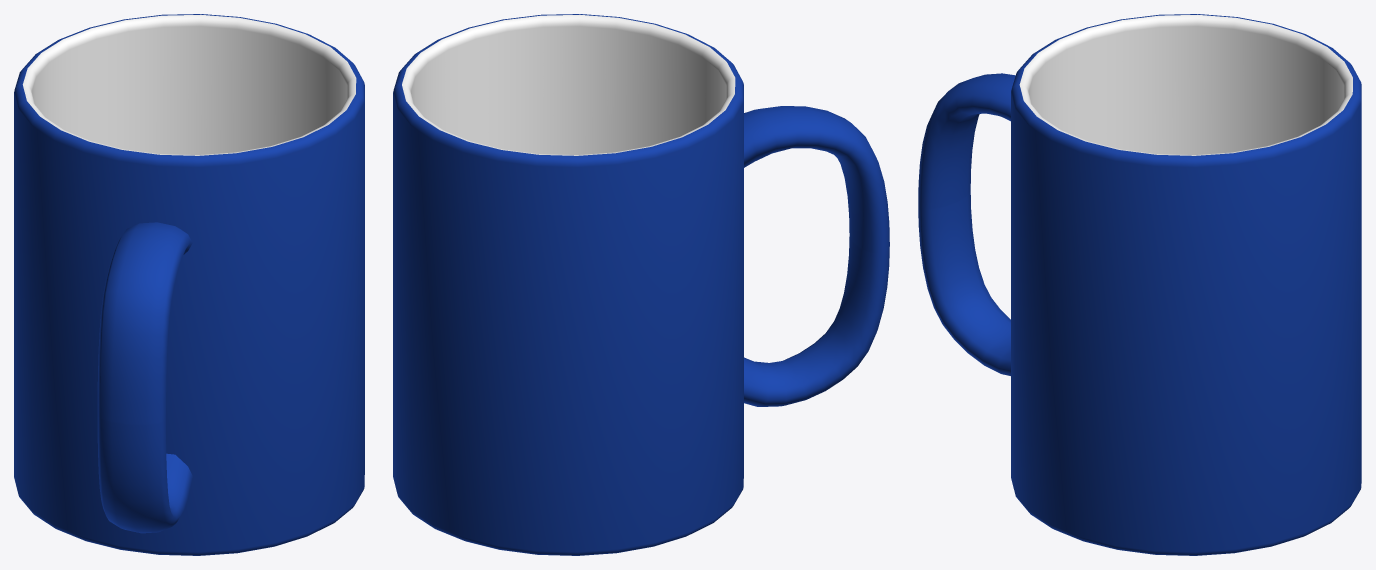
File: Coffee Mug.FBX
3 renders of one model, left to right at view 1: azimuth 30°, elevation 25°; view 2: azimuth 150°, elevation 25°; view 3: azimuth 270°, elevation 25°, orthographic.
Parts seen in each view (by area): view 1: cup2_obj_0; view 2: cup2_obj_0; view 3: cup2_obj_0.
Boxes of the visible parts, x1,y1,x2,y2 form: cup2_obj_0: [14, 14, 364, 555]; cup2_obj_0: [393, 14, 889, 555]; cup2_obj_0: [918, 14, 1361, 555].
Bounding box in the file's own units: 119 × 127 × 128.
